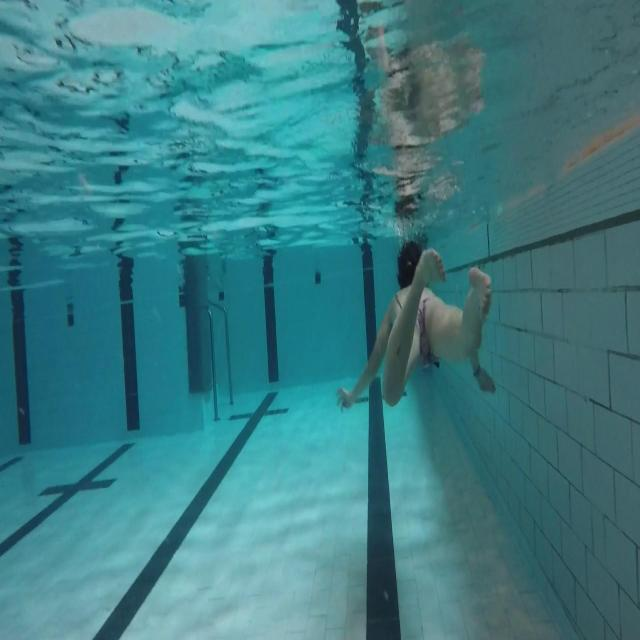human: (336, 238, 496, 412)
